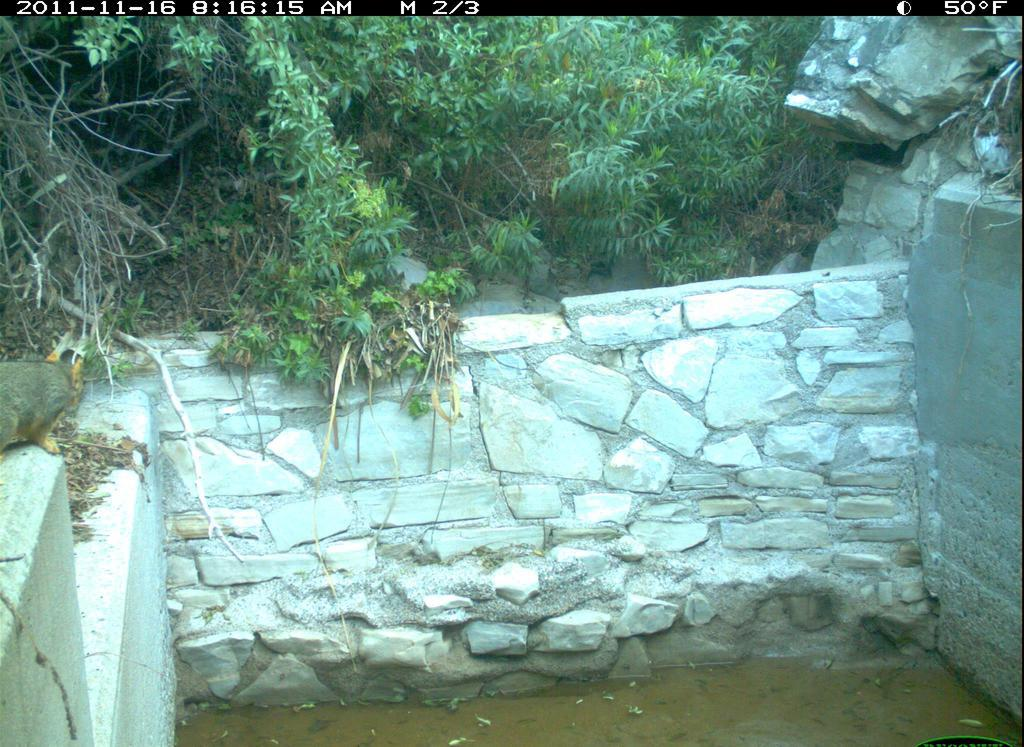squirrel: (1, 332, 95, 465)
